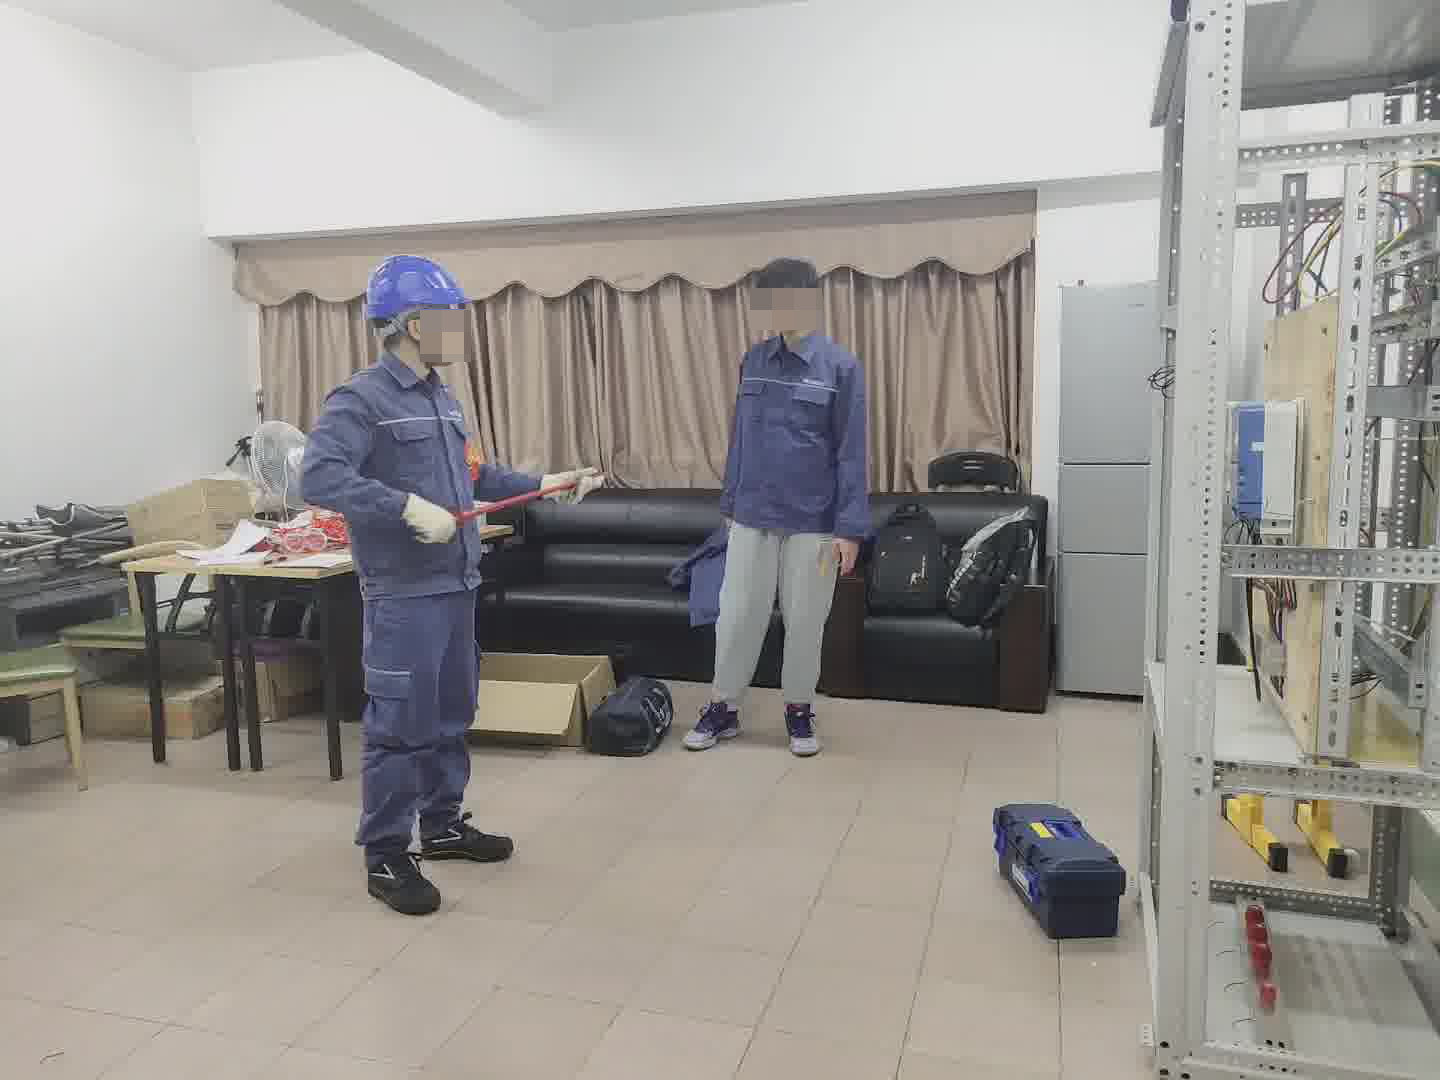downcloth: (718, 530, 833, 710)
downsuit: (354, 612, 490, 853)
glove: (402, 492, 458, 547), (538, 465, 607, 503)
halt: (361, 254, 476, 367)
hand: (837, 532, 868, 578)
inear: (400, 312, 438, 351)
noear: (798, 286, 822, 317)
person: (293, 248, 563, 909), (673, 253, 867, 752)
testrod: (448, 480, 580, 517)
unhalt: (749, 254, 825, 338)
upsuit: (300, 357, 488, 595), (720, 331, 870, 527)
